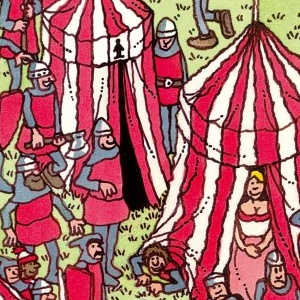Wizard Whitebeard: (142, 138, 158, 162)
